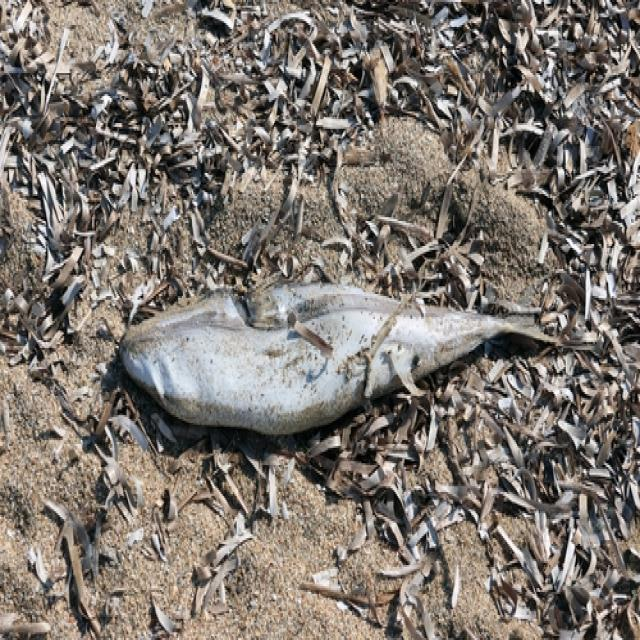Balik: (121, 285, 552, 434)
